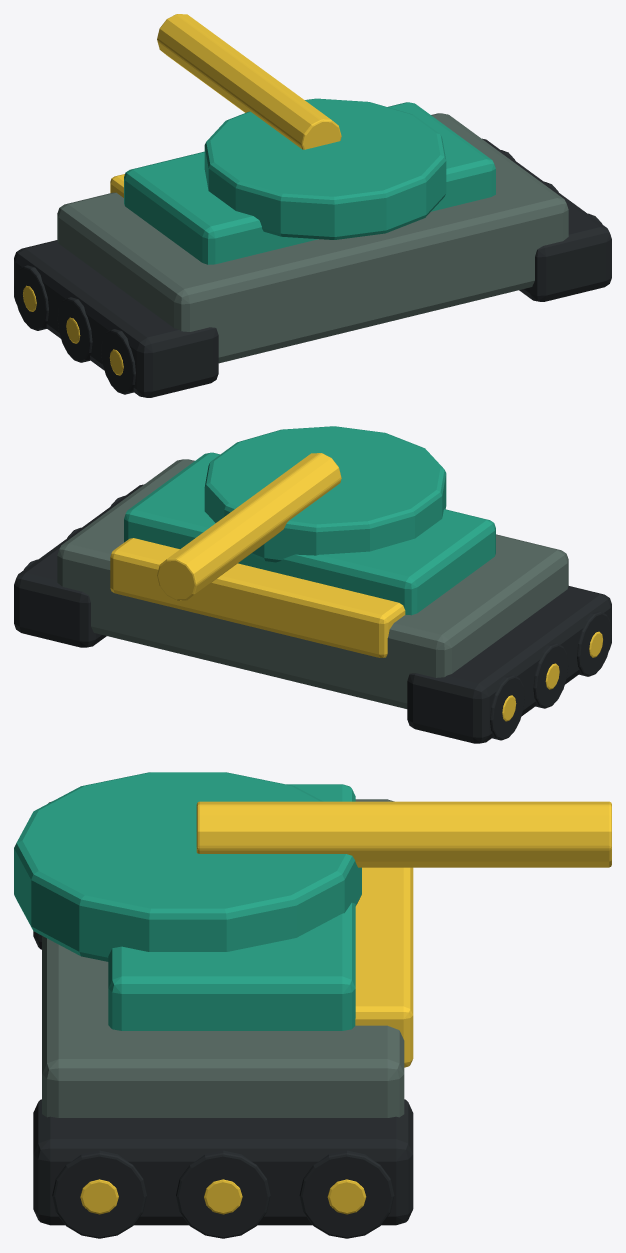
File: SM_Coalition_CO_MonsoonArtillery.fbx
3 renders of one model, top to bottom at view 1: azimuth 30°, elevation 25°; view 2: azimuth 150°, elevation 25°; view 3: azimuth 270°, elevation 25°, orthographic. The views are drawn at different scales.
Parts seen in each view (by area): view 1: SM_Coalition_CO_MonsoonArtillery, SM_Coalition_CO_MonsoonArtillery_Turret, SM_Coalition_CO_MonsoonArtillery_UpperHull, SM_Coalition_CO_MonsoonArtillery_Track_-1, SM_Coalition_CO_MonsoonArtillery_ArtilleryBarrel, SM_Coalition_CO_MonsoonArtillery_Track_+1, SM_Coalition_CO_MonsoonArtillery_Wheel_00.001, SM_Coalition_CO_MonsoonArtillery_Wheel_00, SM_Coalition_CO_MonsoonArtillery_Wheel_01; view 2: SM_Coalition_CO_MonsoonArtillery, SM_Coalition_CO_MonsoonArtillery_Turret, SM_Coalition_CO_MonsoonArtillery_UpperHull, SM_Coalition_CO_MonsoonArtillery_Glacis, SM_Coalition_CO_MonsoonArtillery_Track_-1, SM_Coalition_CO_MonsoonArtillery_ArtilleryBarrel, SM_Coalition_CO_MonsoonArtillery_Track_+1, SM_Coalition_CO_MonsoonArtillery_Wheel_00, SM_Coalition_CO_MonsoonArtillery_Wheel_00.001, SM_Coalition_CO_MonsoonArtillery_Wheel_01; view 3: SM_Coalition_CO_MonsoonArtillery_Turret, SM_Coalition_CO_MonsoonArtillery, SM_Coalition_CO_MonsoonArtillery_ArtilleryBarrel, SM_Coalition_CO_MonsoonArtillery_Track_+1, SM_Coalition_CO_MonsoonArtillery_UpperHull, SM_Coalition_CO_MonsoonArtillery_Glacis, SM_Coalition_CO_MonsoonArtillery_Wheel_04, SM_Coalition_CO_MonsoonArtillery_Wheel_04.001, SM_Coalition_CO_MonsoonArtillery_Wheel_05, SM_Coalition_CO_MonsoonArtillery_Hub_04, SM_Coalition_CO_MonsoonArtillery_Hub_04.001, SM_Coalition_CO_MonsoonArtillery_Hub_05.
Boxes of the visible parts, x1,y1,x2,y2 form: SM_Coalition_CO_MonsoonArtillery: (57,113,568,363); SM_Coalition_CO_MonsoonArtillery_Turret: (204,98,446,239); SM_Coalition_CO_MonsoonArtillery_UpperHull: (124,102,495,264); SM_Coalition_CO_MonsoonArtillery_Track_-1: (14,240,218,397); SM_Coalition_CO_MonsoonArtillery_ArtilleryBarrel: (157,14,341,149); SM_Coalition_CO_MonsoonArtillery_Track_+1: (482,138,611,301); SM_Coalition_CO_MonsoonArtillery_Wheel_00.001: (57,297,92,362); SM_Coalition_CO_MonsoonArtillery_Wheel_00: (101,329,135,394); SM_Coalition_CO_MonsoonArtillery_Wheel_01: (14,265,48,330); SM_Coalition_CO_MonsoonArtillery: (57,459,568,708); SM_Coalition_CO_MonsoonArtillery_Turret: (204,426,446,562); SM_Coalition_CO_MonsoonArtillery_UpperHull: (124,452,495,615); SM_Coalition_CO_MonsoonArtillery_Glacis: (110,538,405,657); SM_Coalition_CO_MonsoonArtillery_Track_-1: (407,586,611,743); SM_Coalition_CO_MonsoonArtillery_ArtilleryBarrel: (157,453,341,600); SM_Coalition_CO_MonsoonArtillery_Track_+1: (14,484,143,647); SM_Coalition_CO_MonsoonArtillery_Wheel_00: (577,611,611,676); SM_Coalition_CO_MonsoonArtillery_Wheel_00.001: (533,643,568,708); SM_Coalition_CO_MonsoonArtillery_Wheel_01: (490,675,524,740); SM_Coalition_CO_MonsoonArtillery_Turret: (14,772,361,961); SM_Coalition_CO_MonsoonArtillery: (42,799,404,1117); SM_Coalition_CO_MonsoonArtillery_ArtilleryBarrel: (196,801,611,867); SM_Coalition_CO_MonsoonArtillery_Track_+1: (33,1099,413,1225); SM_Coalition_CO_MonsoonArtillery_UpperHull: (108,784,355,1030); SM_Coalition_CO_MonsoonArtillery_Glacis: (355,867,413,1067); SM_Coalition_CO_MonsoonArtillery_Wheel_04: (52,1150,146,1238); SM_Coalition_CO_MonsoonArtillery_Wheel_04.001: (176,1150,270,1238); SM_Coalition_CO_MonsoonArtillery_Wheel_05: (299,1150,394,1238); SM_Coalition_CO_MonsoonArtillery_Hub_04: (80,1179,118,1214); SM_Coalition_CO_MonsoonArtillery_Hub_04.001: (204,1179,242,1214); SM_Coalition_CO_MonsoonArtillery_Hub_05: (327,1179,366,1214).
Size of what is drawn, in the model's own units: 572 by 433 by 215.
